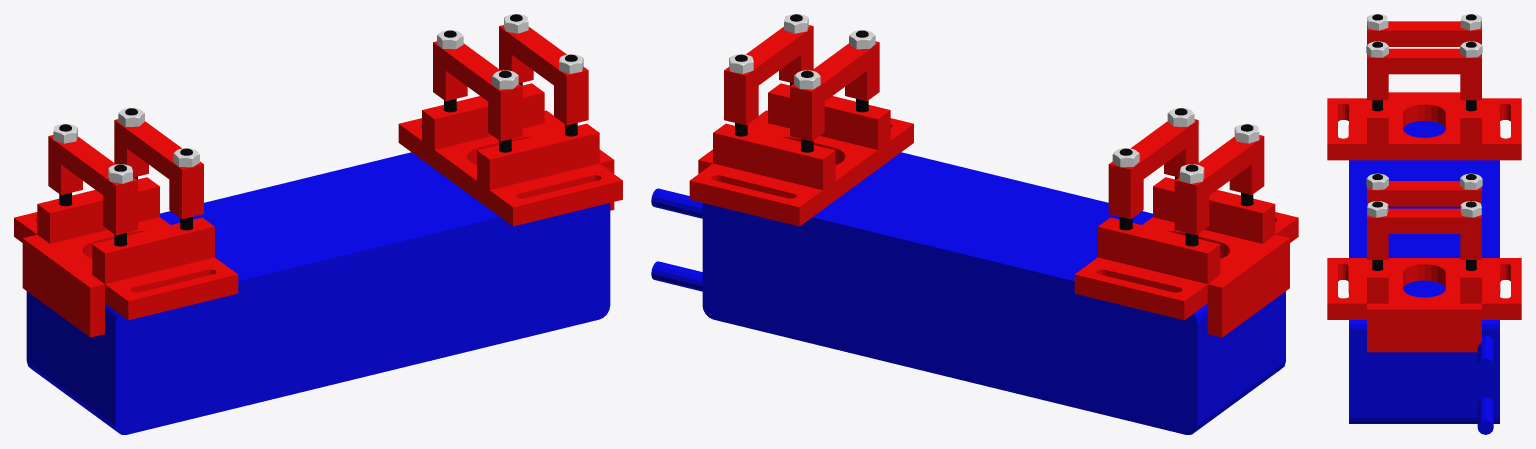
File: battery_module.dae
3 renders of one model, left to right at view 1: azimuth 30°, elevation 25°; view 2: azimuth 150°, elevation 25°; view 3: azimuth 270°, elevation 25°, orthographic. The views are drawn at different scales.
Visible parts, largest first — view 1: battery_module - ZIPPY-3000-25C-6S-2, battery_module - battery_holder-2 battery_holder_base-3, battery_module - battery_holder-1 battery_holder_base-3, battery_module - battery_holder-2 battery_holder_clamp-3, battery_module - battery_holder-1 battery_holder_clamp-4, battery_module - battery_holder-1 battery_holder_clamp-3, battery_module - battery_holder-2 battery_holder_clamp-4; view 2: battery_module - ZIPPY-3000-25C-6S-2, battery_module - battery_holder-2 battery_holder_base-3, battery_module - battery_holder-1 battery_holder_base-3, battery_module - battery_holder-2 battery_holder_clamp-3, battery_module - battery_holder-1 battery_holder_clamp-4, battery_module - battery_holder-2 battery_holder_clamp-4, battery_module - battery_holder-1 battery_holder_clamp-3; view 3: battery_module - ZIPPY-3000-25C-6S-2, battery_module - battery_holder-1 battery_holder_base-3, battery_module - battery_holder-2 battery_holder_base-3, battery_module - battery_holder-2 battery_holder_clamp-4, battery_module - battery_holder-1 battery_holder_clamp-3, battery_module - battery_holder-2 battery_holder_clamp-3, battery_module - battery_holder-1 battery_holder_clamp-4, battery_module - battery_holder-2 SLBNR3-2, battery_module - battery_holder-2 SLBNR3-4, battery_module - battery_holder-1 SLBNR3-2, battery_module - battery_holder-1 SLBNR3-4, battery_module - battery_holder-1 SLBNR3-1 (+3 smaller).
Part boxes in pixels (<box>): battery_module - ZIPPY-3000-25C-6S-2: <box>26,152,610,434</box>; battery_module - battery_holder-2 battery_holder_base-3: <box>14,177,238,337</box>; battery_module - battery_holder-1 battery_holder_base-3: <box>398,83,622,226</box>; battery_module - battery_holder-2 battery_holder_clamp-3: <box>48,135,137,235</box>; battery_module - battery_holder-1 battery_holder_clamp-4: <box>433,41,522,141</box>; battery_module - battery_holder-1 battery_holder_clamp-3: <box>499,25,588,125</box>; battery_module - battery_holder-2 battery_holder_clamp-4: <box>114,119,203,219</box>; battery_module - ZIPPY-3000-25C-6S-2: <box>651,152,1285,434</box>; battery_module - battery_holder-2 battery_holder_base-3: <box>1074,177,1298,337</box>; battery_module - battery_holder-1 battery_holder_base-3: <box>689,83,913,226</box>; battery_module - battery_holder-2 battery_holder_clamp-3: <box>1174,135,1264,235</box>; battery_module - battery_holder-1 battery_holder_clamp-4: <box>790,41,879,141</box>; battery_module - battery_holder-2 battery_holder_clamp-4: <box>1108,119,1198,219</box>; battery_module - battery_holder-1 battery_holder_clamp-3: <box>724,25,813,125</box>; battery_module - ZIPPY-3000-25C-6S-2: <box>1349,121,1499,434</box>; battery_module - battery_holder-1 battery_holder_base-3: <box>1327,258,1521,352</box>; battery_module - battery_holder-2 battery_holder_base-3: <box>1327,92,1521,160</box>; battery_module - battery_holder-2 battery_holder_clamp-4: <box>1367,48,1481,100</box>; battery_module - battery_holder-1 battery_holder_clamp-3: <box>1367,208,1481,259</box>; battery_module - battery_holder-2 battery_holder_clamp-3: <box>1367,21,1481,46</box>; battery_module - battery_holder-1 battery_holder_clamp-4: <box>1367,181,1481,208</box>; battery_module - battery_holder-2 SLBNR3-2: <box>1366,41,1388,57</box>; battery_module - battery_holder-2 SLBNR3-4: <box>1460,41,1482,57</box>; battery_module - battery_holder-1 SLBNR3-2: <box>1460,173,1482,189</box>; battery_module - battery_holder-1 SLBNR3-4: <box>1366,173,1388,189</box>; battery_module - battery_holder-1 SLBNR3-1: <box>1460,201,1481,217</box>.
Bounding box in the file's own units: 0.154 × 0.054 × 0.066.
